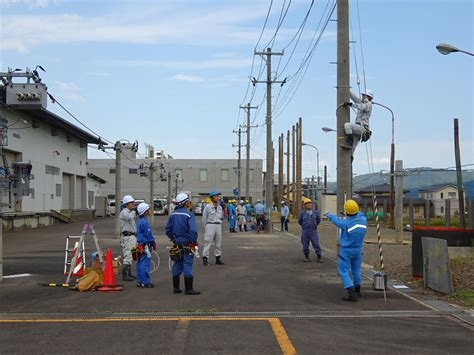blue: (207, 189, 220, 204)
white: (175, 191, 191, 211), (135, 200, 151, 220), (121, 192, 135, 210)
yellow: (343, 197, 359, 219), (302, 197, 313, 210)
